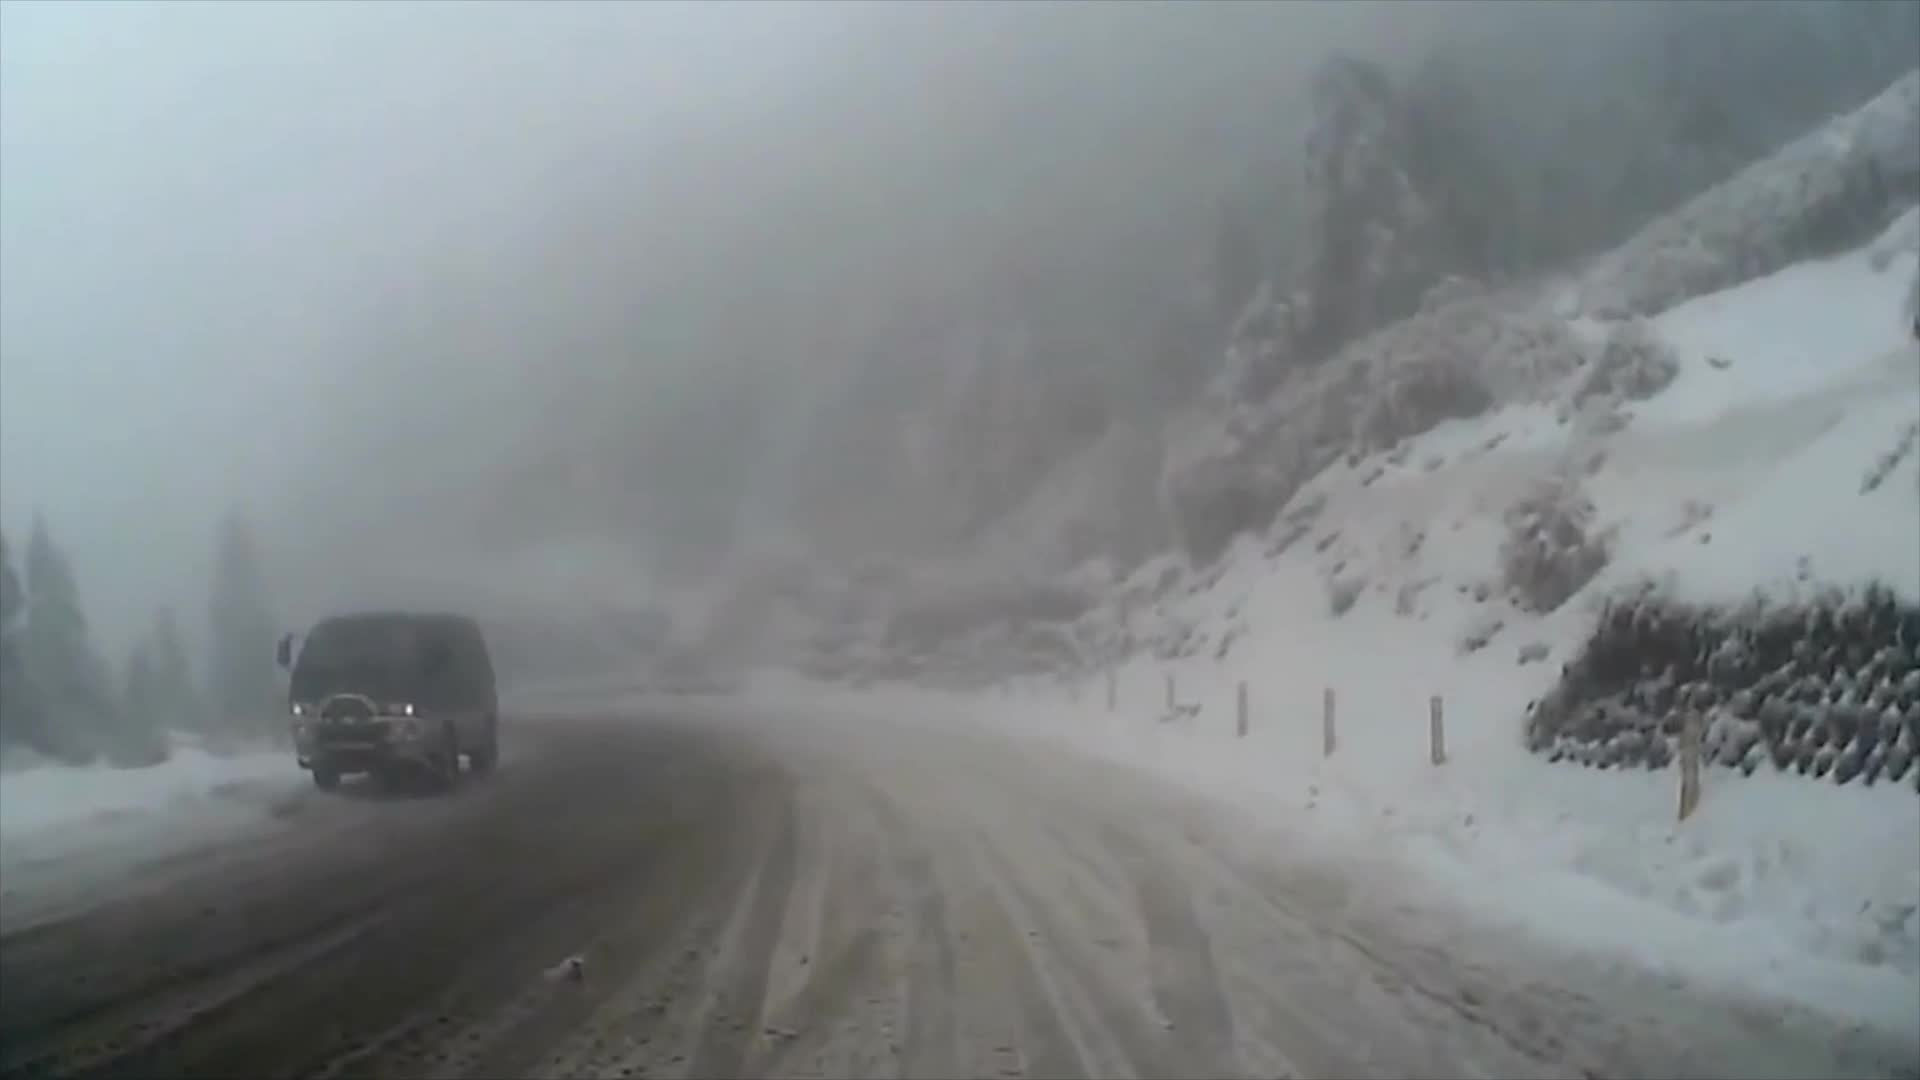vehicle: (276, 611, 501, 796)
